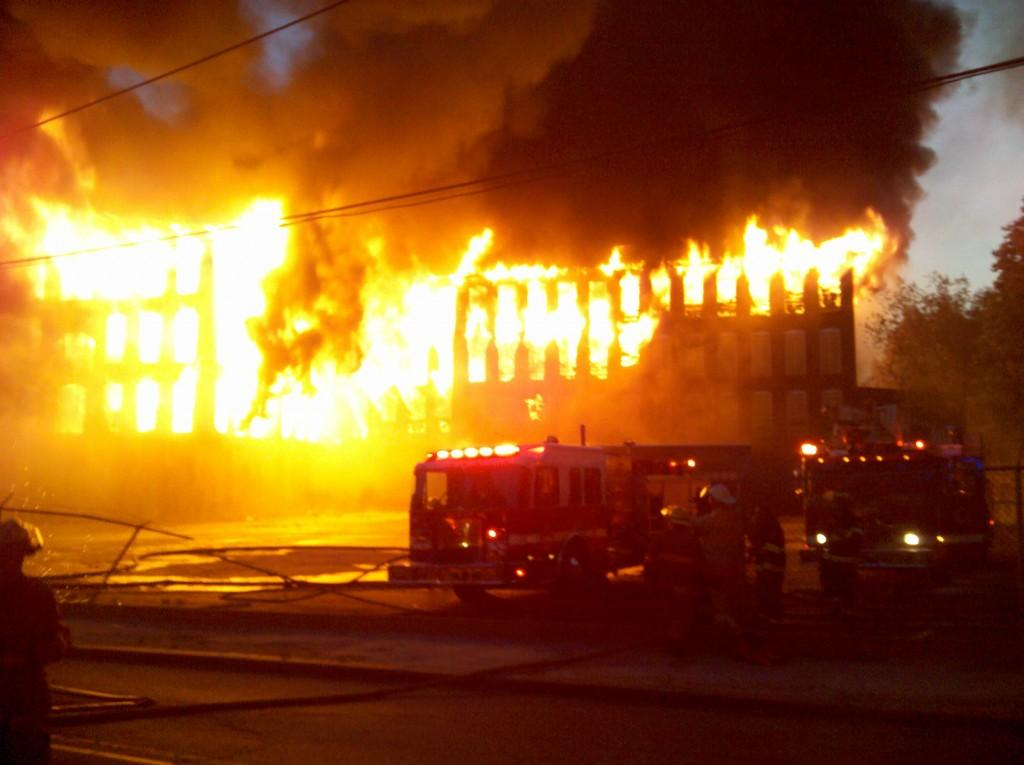Fire: (9, 193, 877, 429)
